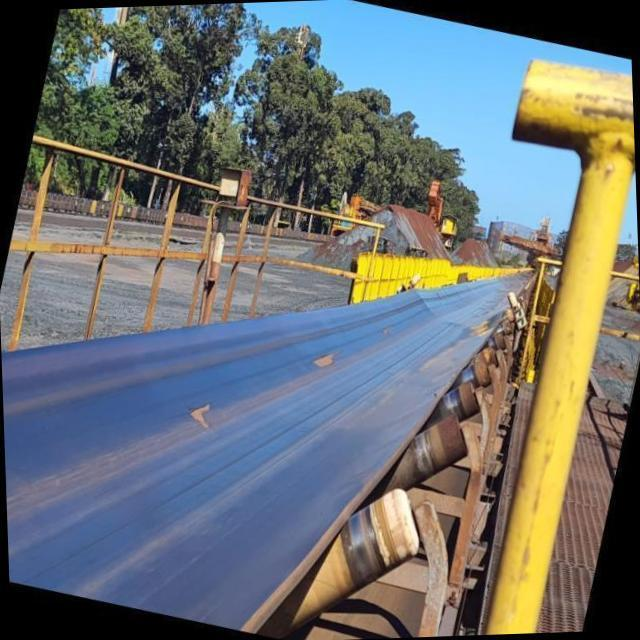Tear: (179, 398, 221, 434), (308, 344, 343, 378)
